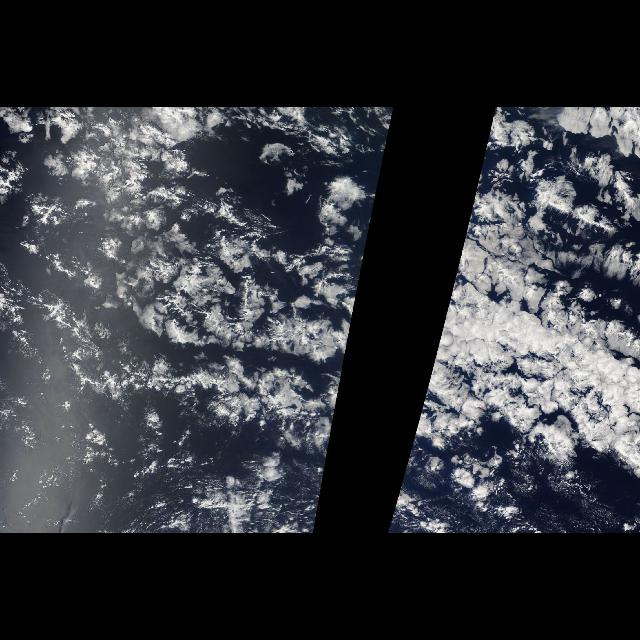Flower: (1, 109, 388, 489), (398, 132, 640, 506)
Sugar: (74, 214, 362, 468)
